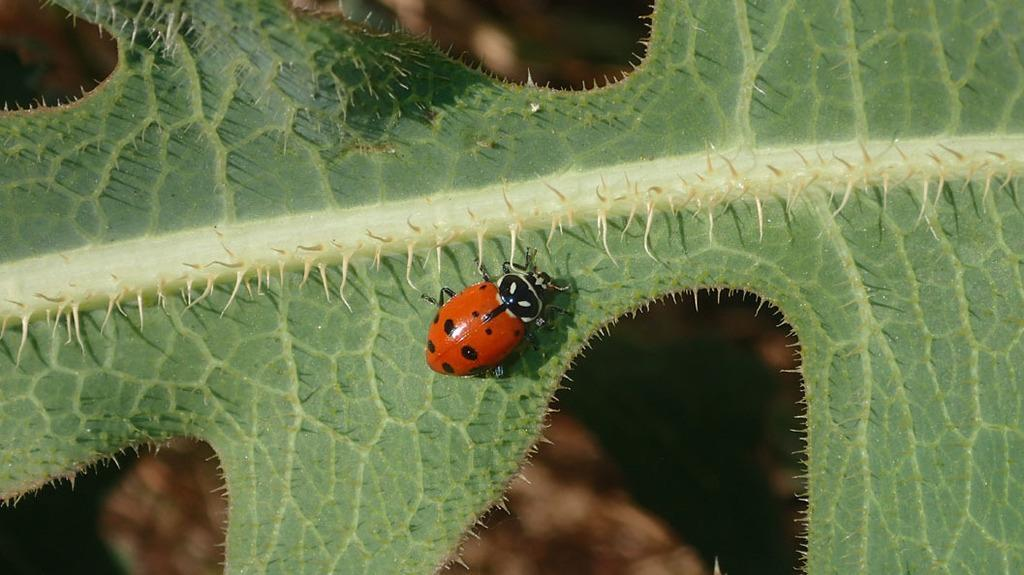ladybug: (421, 246, 578, 381)
